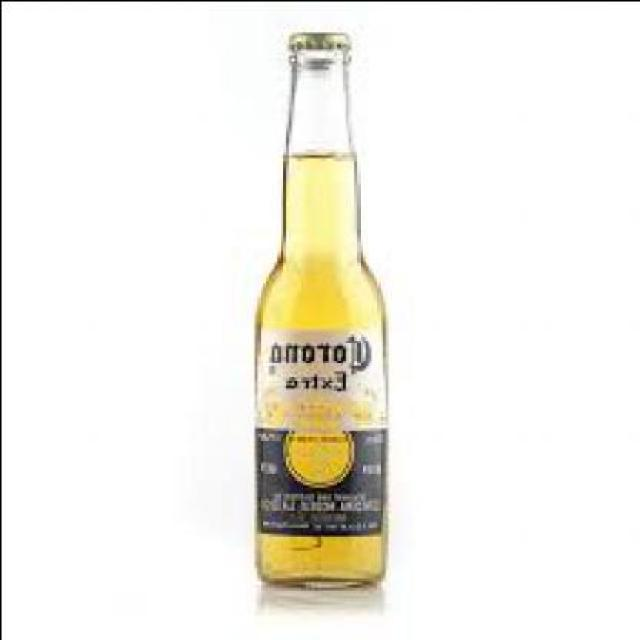GLASS: (253, 45, 390, 584)
METAL: (293, 26, 350, 46)
